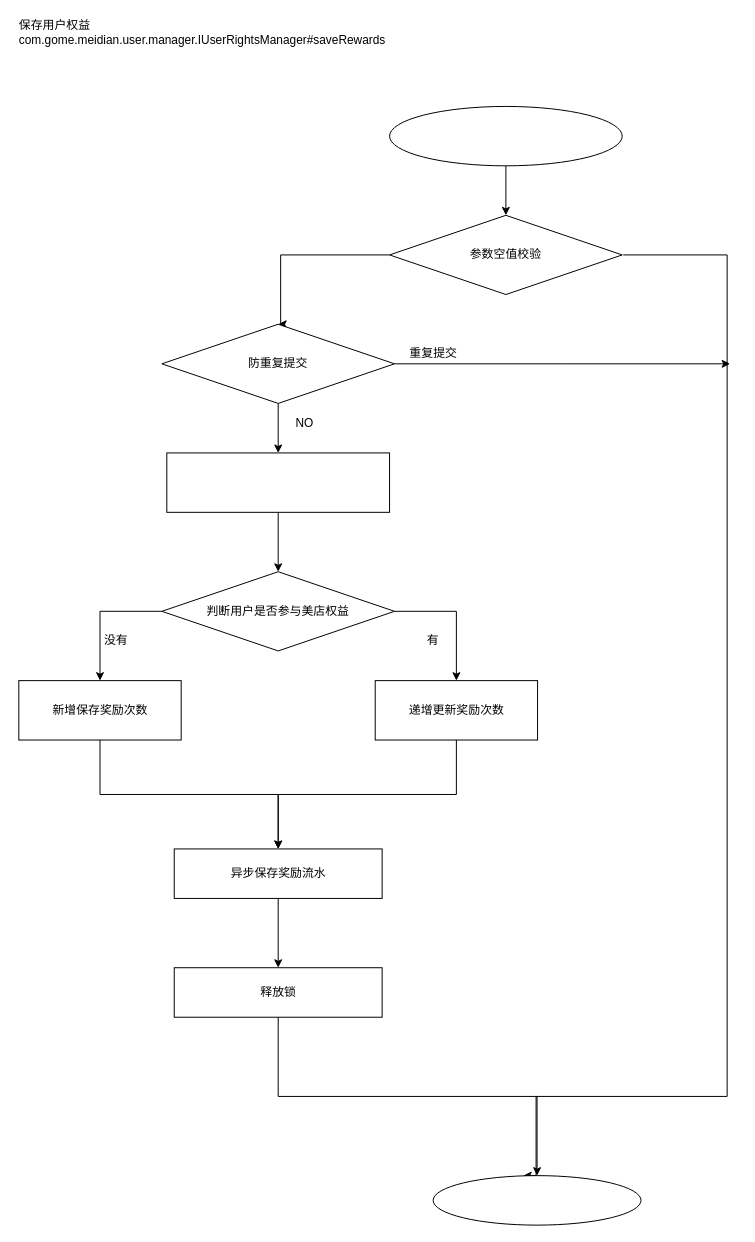
Image size: 755x1242. Some labels were removed from this diagram. Each missing label, with the box of its shape:
开始: (389, 105, 622, 166)
结束: (432, 1175, 641, 1225)
获取用户权益信息: (166, 452, 390, 512)
